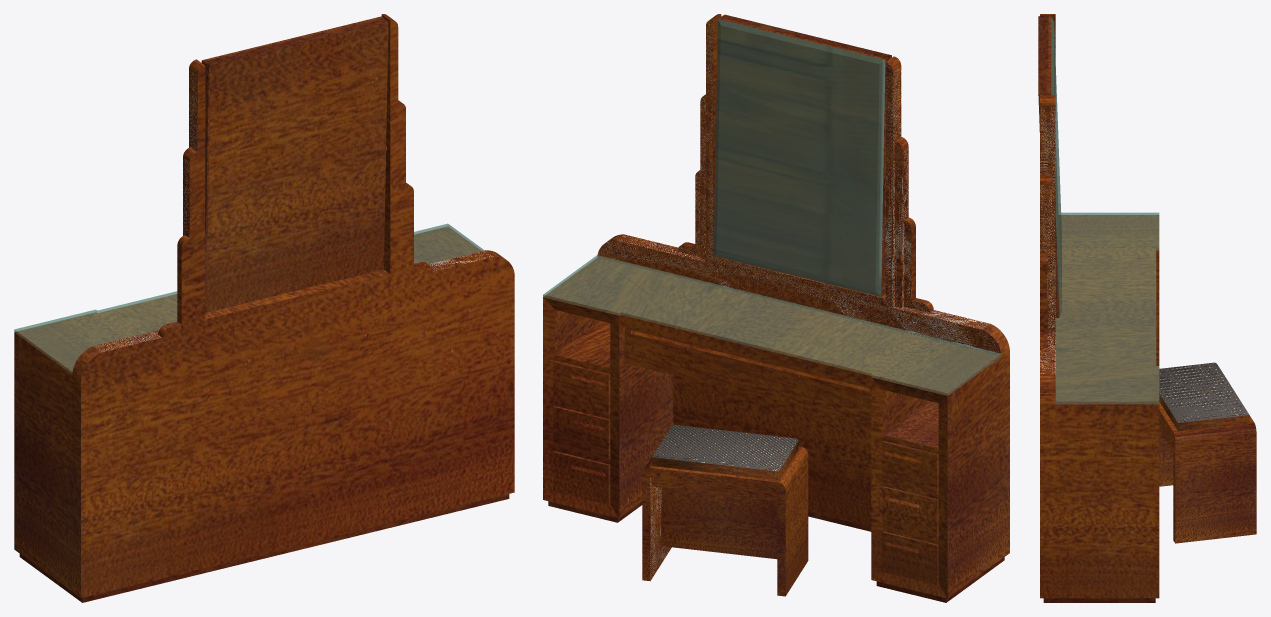
3 views of the same model, side by side, from view 1: azimuth 30°, elevation 25°; view 2: azimuth 150°, elevation 25°; view 3: azimuth 270°, elevation 25° (orthographic). The views are drawn at different scales.
Visible parts, largest first — view 1: mesh4_mesh4-geometry, mesh1_mesh1-geometry; view 2: mesh4_mesh4-geometry, mesh1_mesh1-geometry, mesh8_mesh8-geometry; view 3: mesh4_mesh4-geometry, mesh8_mesh8-geometry, mesh1_mesh1-geometry.
Boxes of the visible parts, bbox=[...] form: mesh4_mesh4-geometry: bbox=[14, 14, 514, 602]; mesh1_mesh1-geometry: bbox=[201, 16, 388, 312]; mesh4_mesh4-geometry: bbox=[543, 14, 1009, 602]; mesh1_mesh1-geometry: bbox=[713, 14, 891, 296]; mesh8_mesh8-geometry: bbox=[642, 424, 808, 596]; mesh4_mesh4-geometry: bbox=[1040, 14, 1159, 602]; mesh8_mesh8-geometry: bbox=[1159, 362, 1256, 543]; mesh1_mesh1-geometry: bbox=[1038, 16, 1061, 317].
Size of the model in its own units: 0.6329 by 0.71 by 0.3085.
